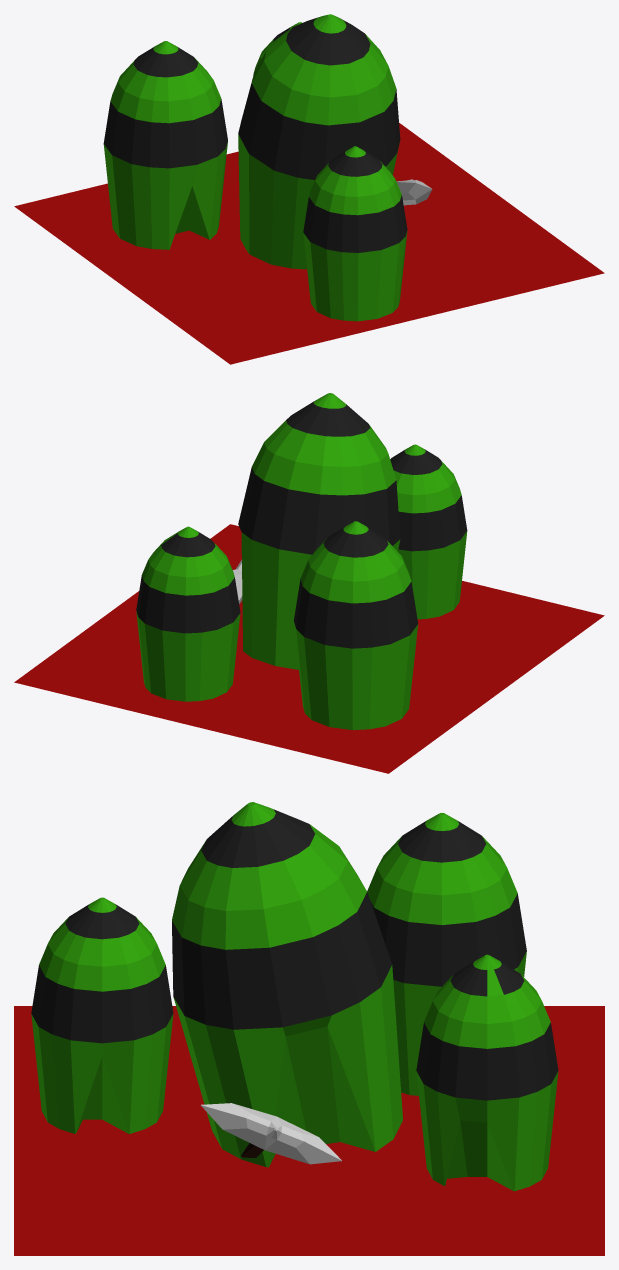
File: GiantLiar1d.obj
3 renders of one model, top to bottom at view 1: azimuth 30°, elevation 25°; view 2: azimuth 150°, elevation 25°; view 3: azimuth 270°, elevation 25°, orthographic. The views are drawn at different scales.
Visible parts, largest first — view 1: Plane.004, Plane, Plane.003, Plane.002, Cube.001_Cube.002; view 2: Plane.004, Plane, Plane.003, Plane.001, Plane.002; view 3: Plane.004, Plane, Plane.002, Plane.001, Plane.003, Cube.001_Cube.002.
Part boxes in pixels (x1,y1,x2,y2): Plane.004: (14, 123, 604, 364); Plane: (238, 14, 400, 269); Plane.003: (103, 41, 227, 249); Plane.002: (303, 146, 407, 321); Cube.001_Cube.002: (396, 179, 432, 205); Plane.004: (14, 524, 604, 773); Plane: (238, 393, 400, 669); Plane.003: (294, 521, 418, 729); Plane.001: (136, 526, 240, 701); Plane.002: (390, 444, 467, 619); Plane.004: (14, 1006, 604, 1255); Plane: (172, 802, 402, 1167); Plane.002: (31, 897, 173, 1133); Plane.001: (416, 954, 558, 1191); Plane.003: (367, 813, 526, 1095); Cube.001_Cube.002: (201, 1103, 341, 1164).
Size of the model in its own units: 12.86 by 8.25 by 12.86.
